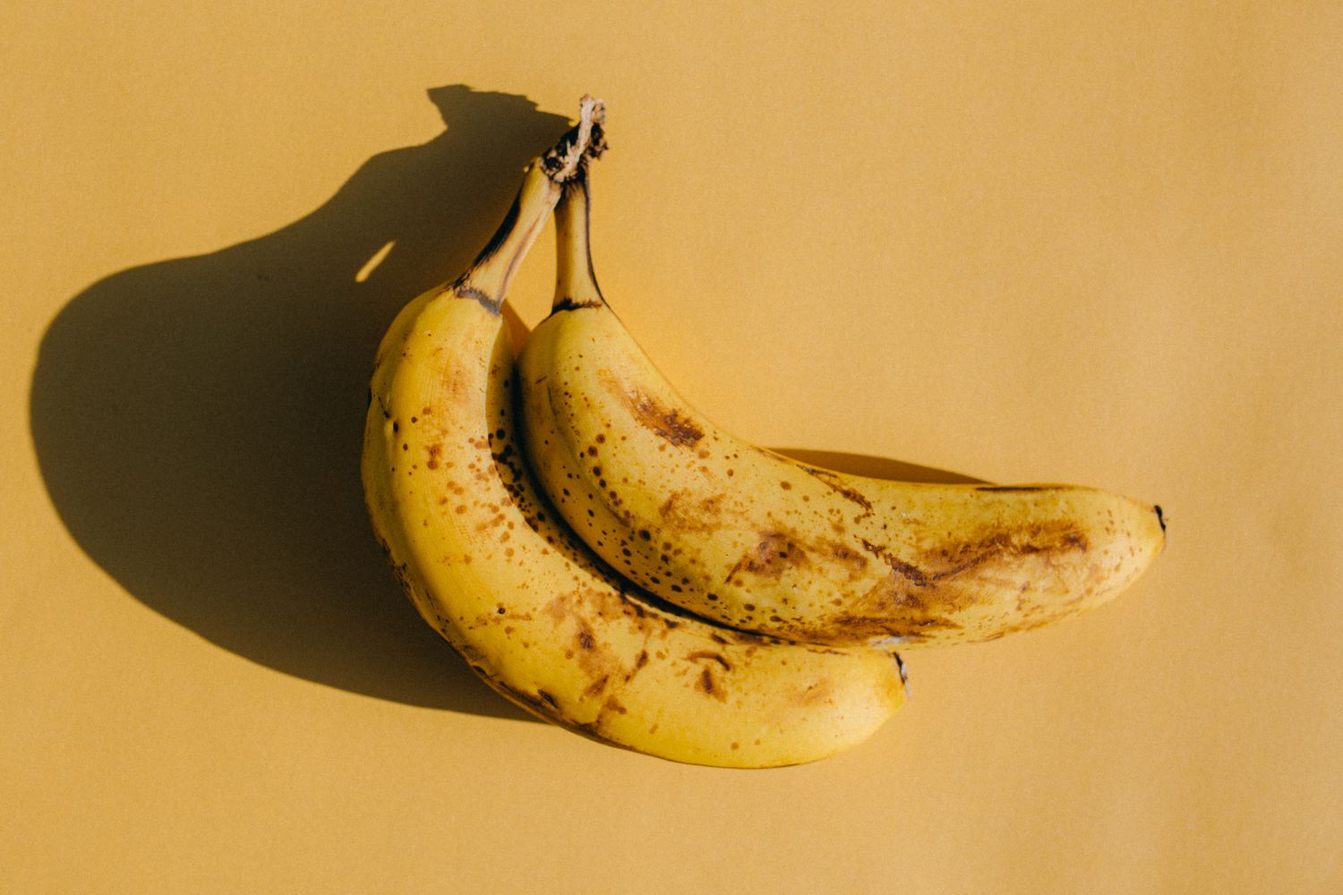banana: (346, 106, 1192, 771)
